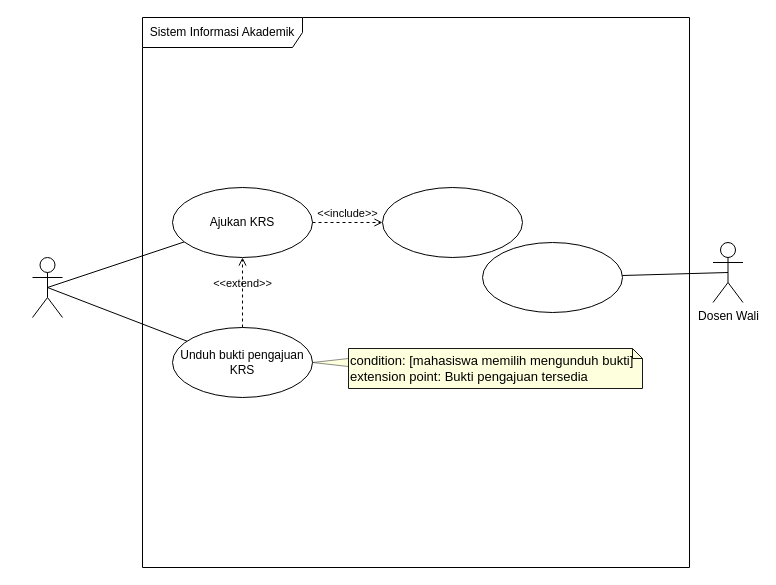
Some shapes in this 776 by 585 pixel diagram are drawn without their labels. The centre of each missing label's shape, as x and y in pixels:
"Mahasiswa" belongs at [47,287].
"Proses keputusan KRS" belongs at [552,277].
"Validasi KRS" belongs at [452,222].
